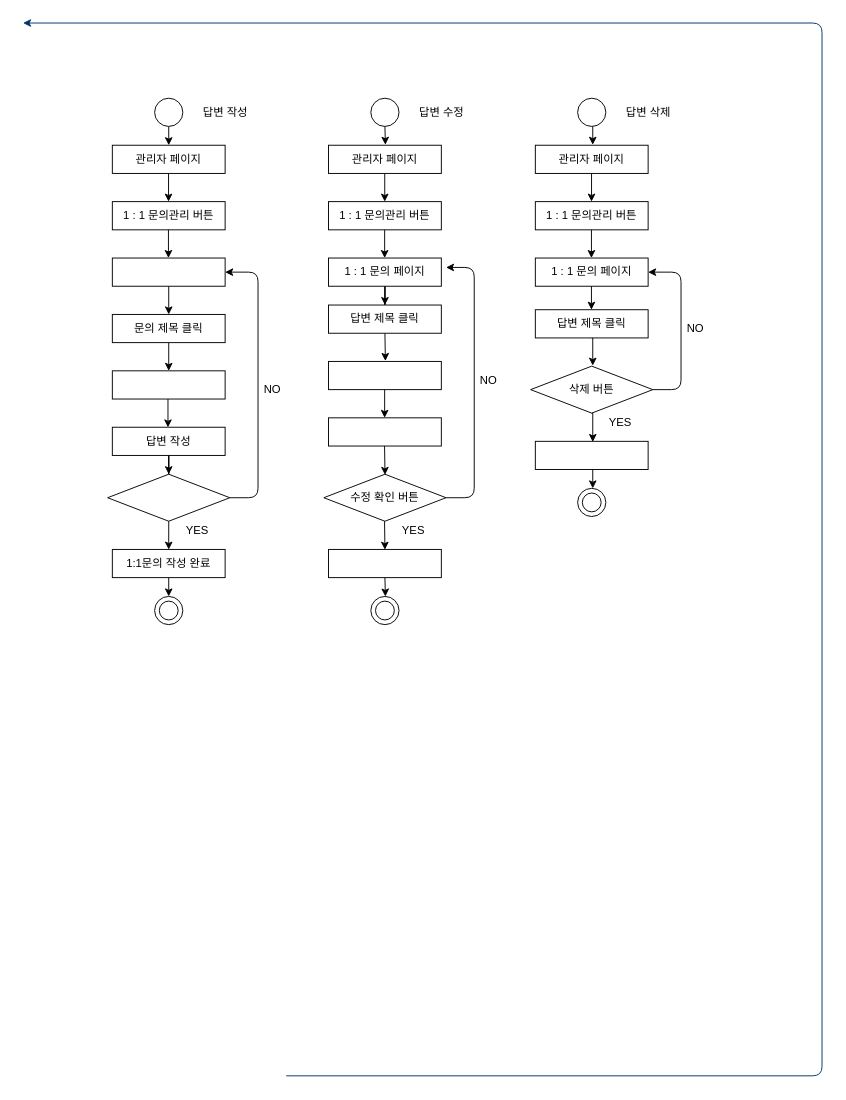
Some shapes in this 846 by 1100 pixel diagram are drawn without their labels. The shapes that lost their labels are listed below. From the top down, each one's centre as x and y in pixels, then its label:
the point at 168,271: 1:1문의 페이지
the point at 168,384: 답변 버튼
the point at 384,375: 수정 버튼
the point at 384,431: 수정 내용 작성
the point at 591,455: 1:1문의 삭제 완료
the point at 168,497: 작성 버튼
the point at 384,563: 1 :1문의 수정 완료
